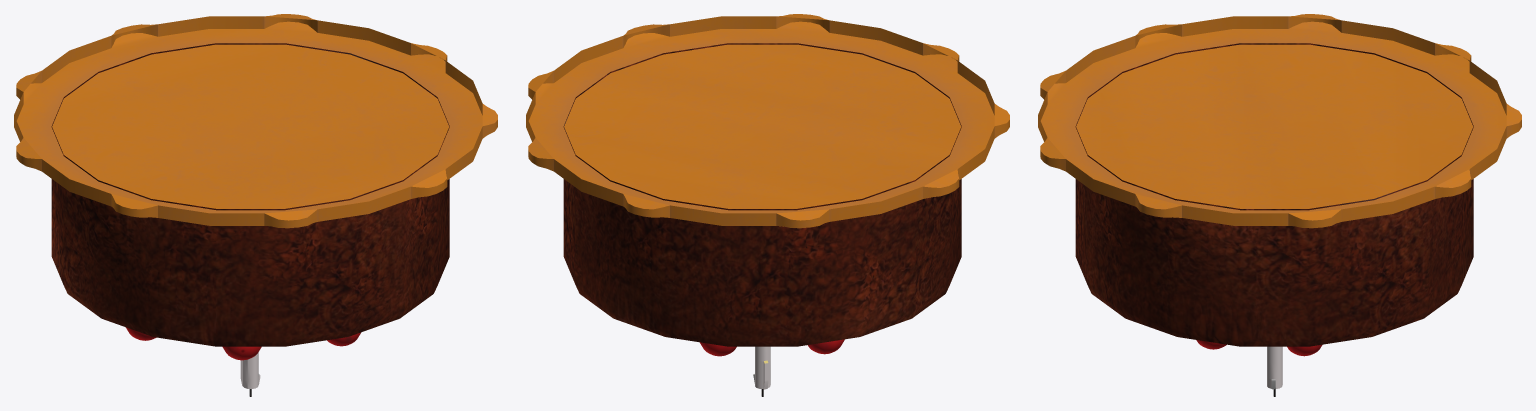
3 views of the same model, side by side, from view 1: azimuth 30°, elevation 25°; view 2: azimuth 150°, elevation 25°; view 3: azimuth 270°, elevation 25° (orthographic).
Parts seen in each view (by area): view 1: Cake_2; view 2: Cake_2; view 3: Cake_2.
Boxes of the visible parts, x1,y1,x2,y2 form: Cake_2: (14,14,497,396); Cake_2: (526,14,1009,396); Cake_2: (1038,14,1521,396).
Bounding box in the file's own units: 2.07 × 1.31 × 2.04.
Materials: 1 (1 with a texture image).
